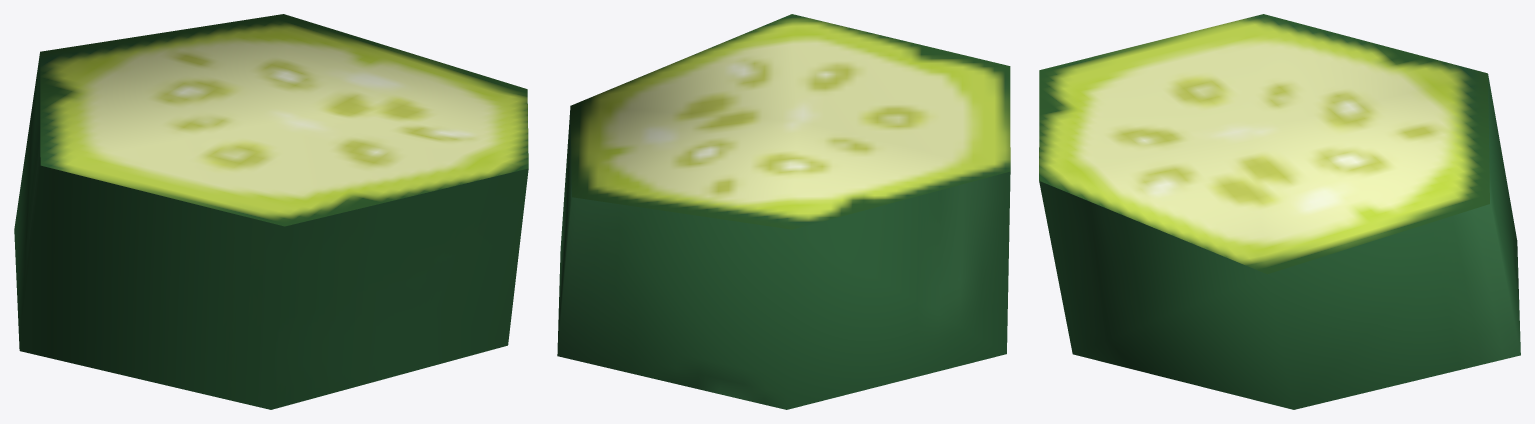
File: SM_PROP_food_cucumber_03.FBX
The picture shows the model from 3 angles, left to right: view 1: azimuth 30°, elevation 25°; view 2: azimuth 150°, elevation 25°; view 3: azimuth 270°, elevation 25°; orthographic projection. The views are drawn at different scales.
Visible parts, largest first — view 1: SM_PROP_food_cucumber_03; view 2: SM_PROP_food_cucumber_03; view 3: SM_PROP_food_cucumber_03.
Part boxes in pixels (bbox=[...]): SM_PROP_food_cucumber_03: bbox=[14, 14, 528, 409]; SM_PROP_food_cucumber_03: bbox=[557, 14, 1010, 409]; SM_PROP_food_cucumber_03: bbox=[1039, 14, 1520, 409].
Bounding box in the file's own units: 12.71 × 11.59 × 4.73.
